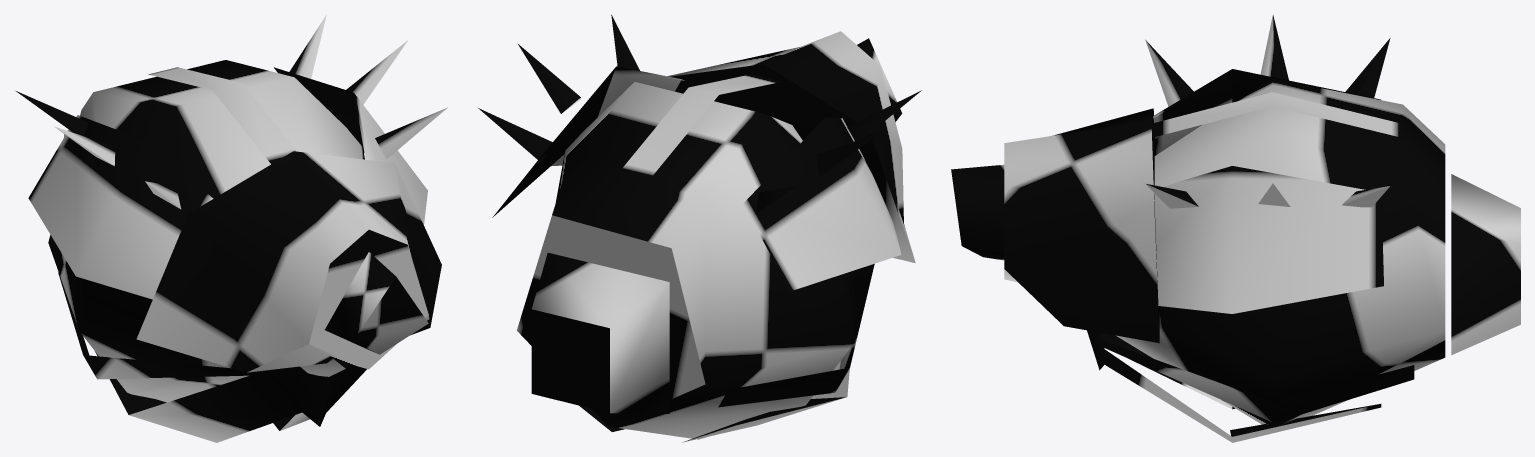
The model's file is drone_iris_3.obj.
The picture shows the model from 3 angles, left to right: view 1: azimuth 30°, elevation 25°; view 2: azimuth 150°, elevation 25°; view 3: azimuth 270°, elevation 25°; orthographic projection. The views are drawn at different scales.
Parts seen in each view (by area): view 1: main; view 2: main; view 3: main.
Boxes of the visible parts, <box> form: main: <box>16,14,447,442</box>; main: <box>478,14,921,442</box>; main: <box>951,15,1520,442</box>.
Bounding box in the file's own units: 13.36 × 12.31 × 19.04.
Materials: 1 (1 with a texture image).
